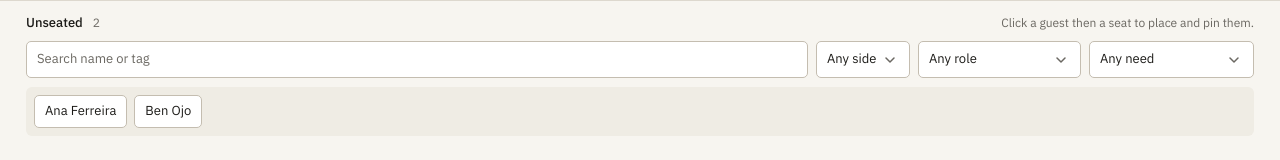
Test case: UnseatedRail — typing in the search field narrows the visible rows › narrows to the guest matching the query and hides the one that does not
The width and height of the screenshot is (1280, 160).
Type "Ana" into the dropdown labelled "Search name or tag" at coordinates (417, 60), box top-left (26, 41), bottom-right (808, 78)
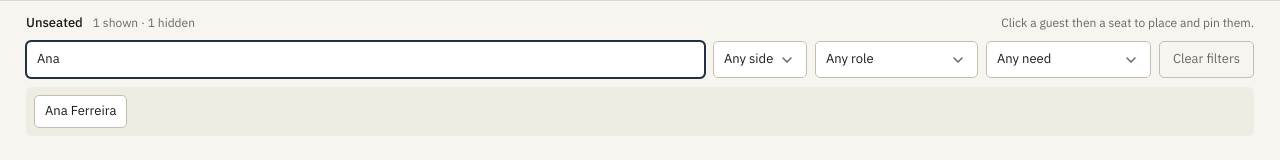
Check: the button "Ana Ferreira" is shown, box top-left (34, 95), bottom-right (127, 128)
Check: the button "Ben Ojo" is gone
